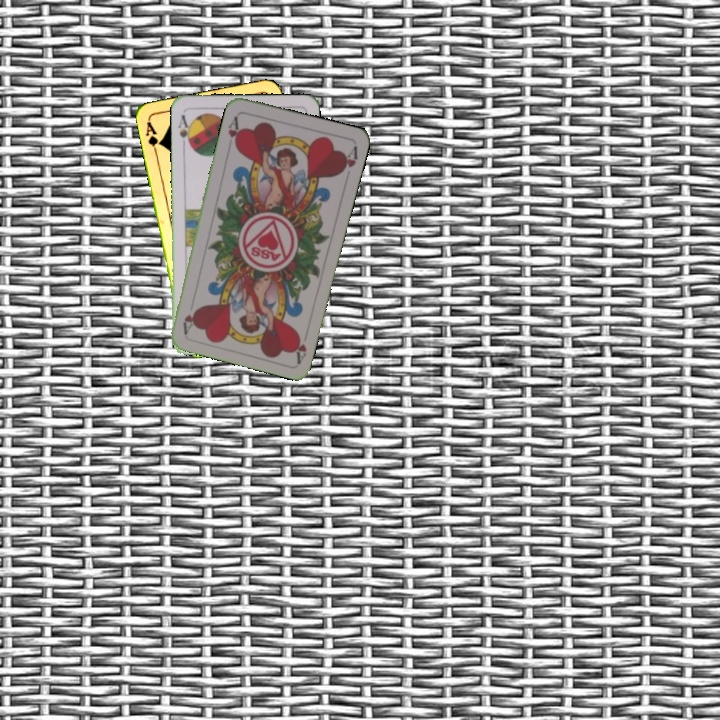GA: (142, 118, 164, 157)
HA: (290, 324, 311, 365), (224, 112, 243, 151)
SA: (174, 111, 194, 150)
